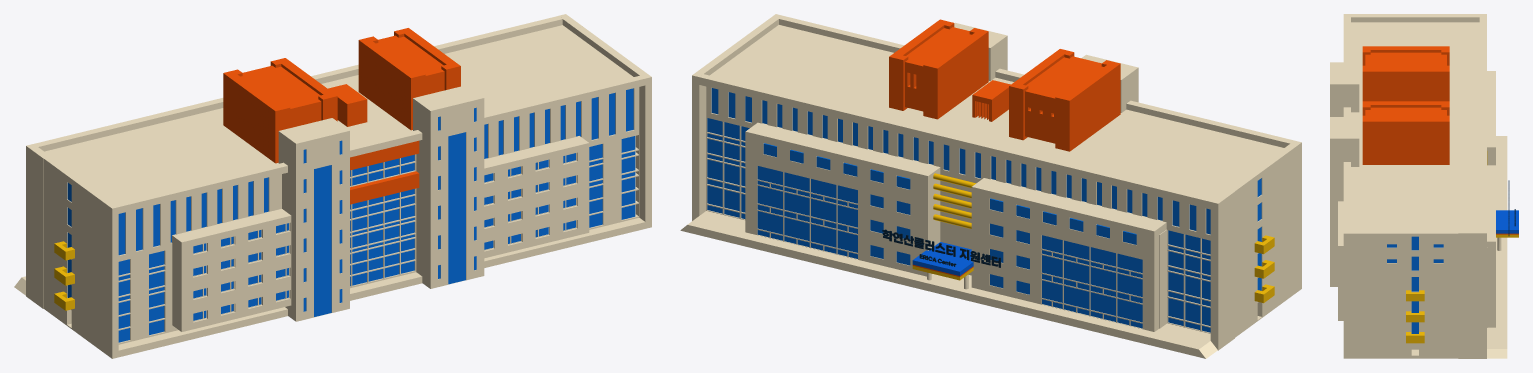
The model's file is 소융대.fbx.
3 views of the same model, side by side, from view 1: azimuth 30°, elevation 25°; view 2: azimuth 150°, elevation 25°; view 3: azimuth 270°, elevation 25° (orthographic). The views are drawn at different scales.
Visible parts, largest first — view 1: Cube_2_2, Cube_13_2, Cube_12_2, Cube, Cube_11, Cube_1, Cube_8, Cube_2, Cube_4, Cube_10; view 2: Cube_2_2, Cube_8_2, Cube_9_2, Cube_9, Cube_11, Cube_8, Cube_4, Cube_12_2, Cube_10, Extrude_1; view 3: Cube_2_2, Cube_8, Cube_11, Cube_12_2, Cube_8_2, Cube_13_2, Cube_12, Cube_4, Cube_14, Cube_13_3, Cube_12_3.
Boxes of the visible parts, x1,y1,x2,y2 form: Cube_2_2: (14, 16, 651, 358); Cube_13_2: (172, 136, 589, 331); Cube_12_2: (278, 85, 484, 321); Cube: (118, 88, 635, 342); Cube_11: (223, 58, 337, 163); Cube_1: (303, 107, 476, 316); Cube_8: (358, 28, 460, 130); Cube_2: (193, 153, 575, 320); Cube_4: (26, 14, 582, 308); Cube_10: (328, 84, 367, 126); Cube_2_2: (680, 14, 1301, 358); Cube_8_2: (745, 122, 1166, 331); Cube_9_2: (757, 143, 1142, 328); Cube_9: (707, 88, 1210, 332); Cube_11: (1009, 49, 1120, 151); Cube_8: (889, 19, 988, 119); Cube_4: (692, 63, 1234, 350); Cube_12_2: (954, 22, 1138, 112); Cube_10: (972, 80, 1010, 121); Extrude_1: (882, 229, 1000, 267); Cube_2_2: (1343, 14, 1518, 358); Cube_8: (1362, 101, 1449, 164); Cube_11: (1362, 46, 1449, 101); Cube_12_2: (1330, 62, 1359, 286); Cube_8_2: (1487, 71, 1495, 327); Cube_13_2: (1338, 201, 1343, 320); Cube_12: (1387, 236, 1443, 333); Cube_4: (1458, 14, 1486, 358); Cube_14: (1406, 332, 1424, 343); Cube_13_3: (1406, 290, 1424, 301); Cube_12_3: (1406, 311, 1424, 322).
Bounding box in the file's own units: 1114 × 376 × 392.
